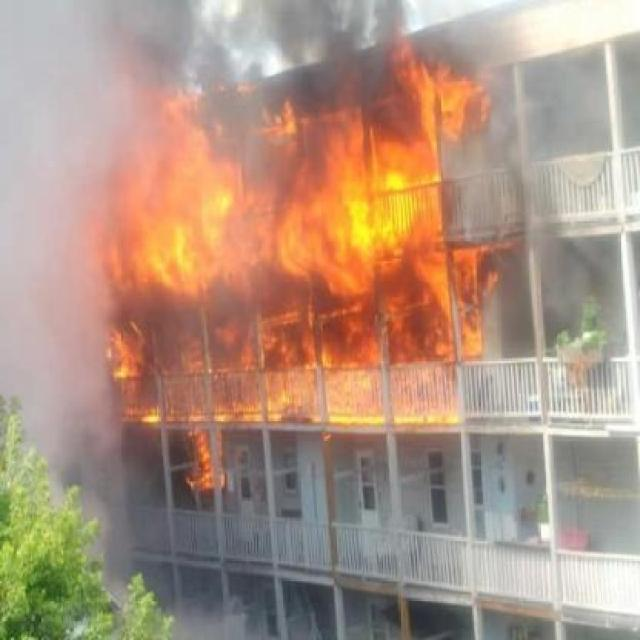Fire: (68, 57, 508, 523)
Smoke: (6, 0, 149, 592), (443, 83, 577, 332), (154, 0, 406, 120)
